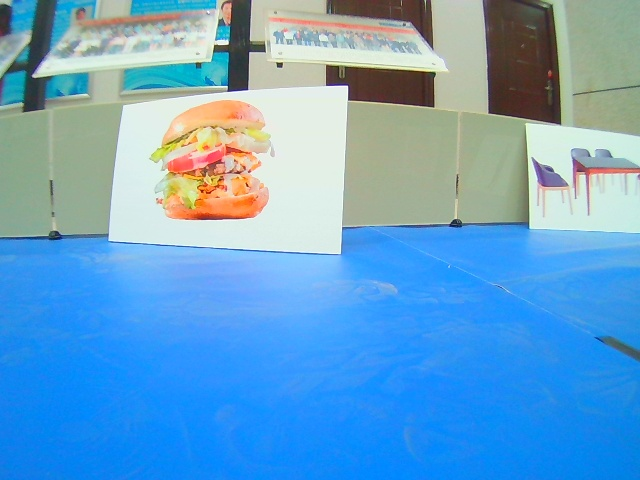food: (109, 84, 349, 255)
table: (524, 123, 640, 232)
